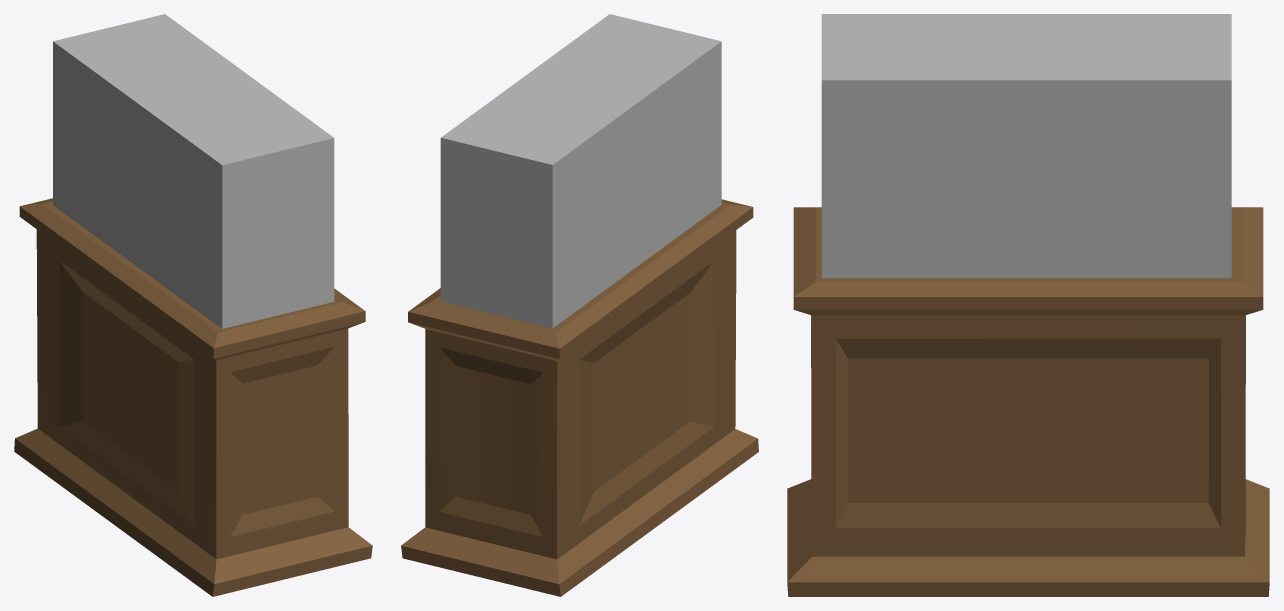
The model's file is med display box.fbx.
3 renders of one model, left to right at view 1: azimuth 30°, elevation 25°; view 2: azimuth 150°, elevation 25°; view 3: azimuth 270°, elevation 25°, orthographic. The views are drawn at different scales.
Parts seen in each view (by area): view 1: pasted__pCube79, pCube88; view 2: pasted__pCube79, pCube88; view 3: pasted__pCube79, pCube88.
Part boxes in pixels (x1,y1,x2,y2): pasted__pCube79: [14, 198, 372, 596]; pCube88: [53, 14, 334, 328]; pasted__pCube79: [401, 199, 758, 596]; pCube88: [440, 14, 721, 328]; pasted__pCube79: [787, 207, 1269, 596]; pCube88: [821, 14, 1231, 278].
Bounding box in the file's own units: 1.86 × 4.62 × 4.02.
